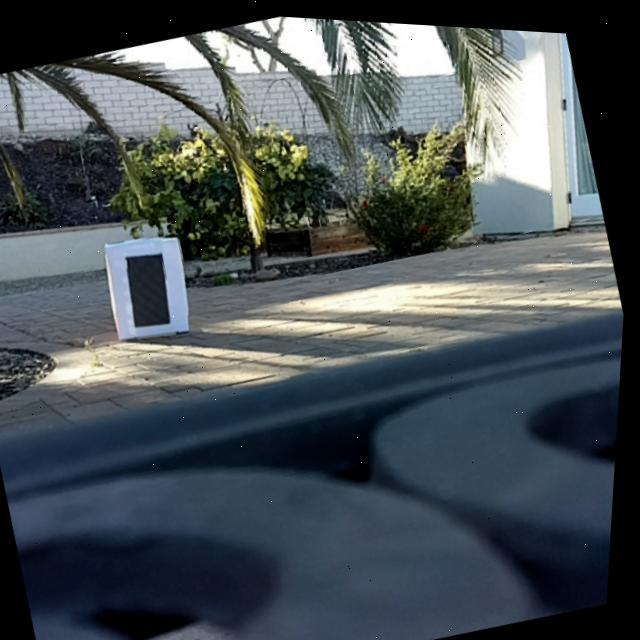led: (122, 246, 181, 328)
